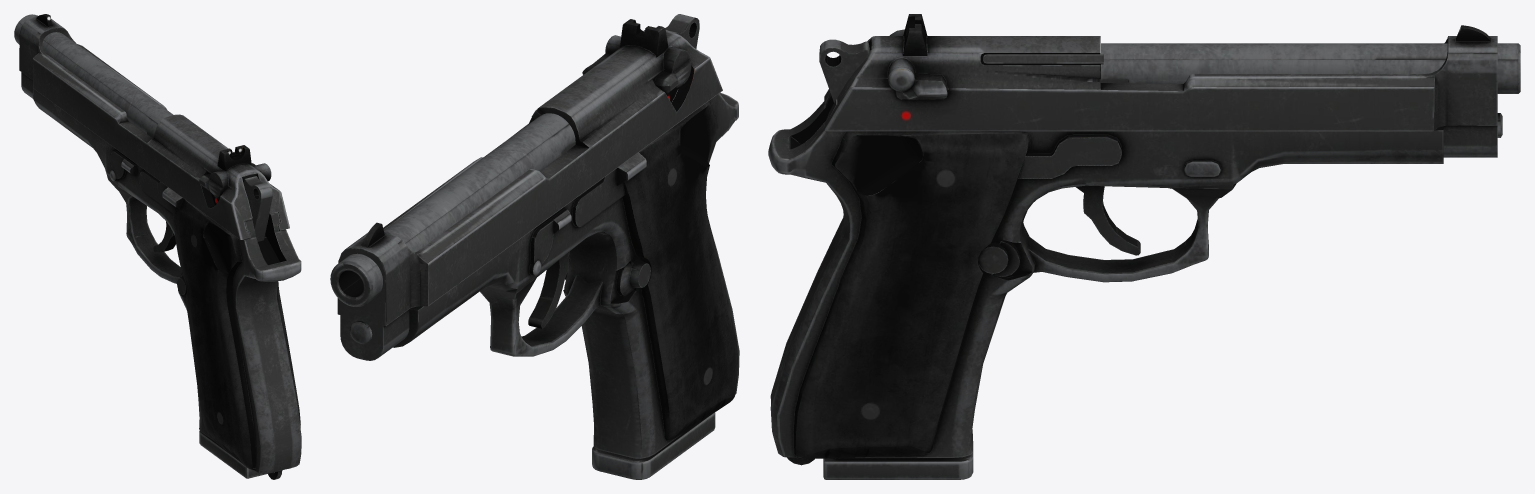
3 views of the same model, side by side, from view 1: azimuth 30°, elevation 25°; view 2: azimuth 150°, elevation 25°; view 3: azimuth 270°, elevation 25° (orthographic). The views are drawn at different scales.
Visible parts, largest first — view 1: m9_body, charge, mag; view 2: m9_body, charge, mag; view 3: m9_body, charge, mag.
Boxes of the visible parts, x1,y1,x2,y2 form: m9_body: (14,14,301,479); charge: (19,14,289,239); mag: (199,430,282,478); m9_body: (330,14,739,458); charge: (337,19,722,360); mag: (592,412,715,479); m9_body: (768,39,1520,465); charge: (824,14,1497,157); mag: (823,441,973,479).
Size of the model in its own units: 0.0308 by 0.1414 by 0.217.
Materials: 1 (1 with a texture image).
